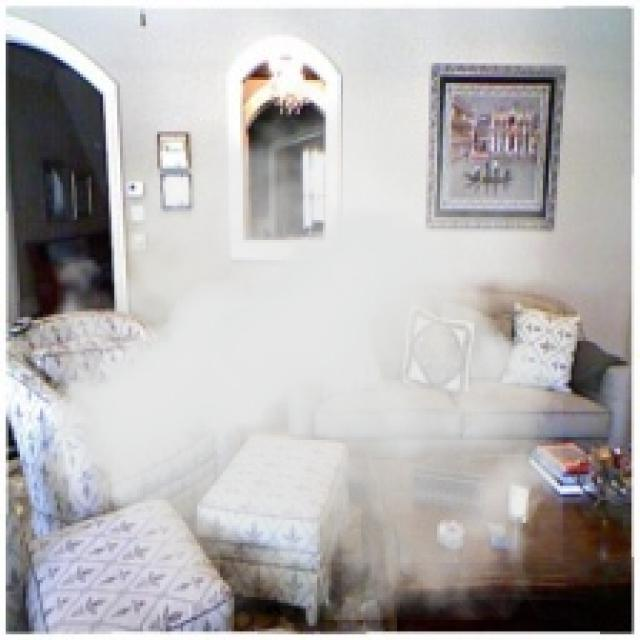smoke: (17, 63, 563, 620)
